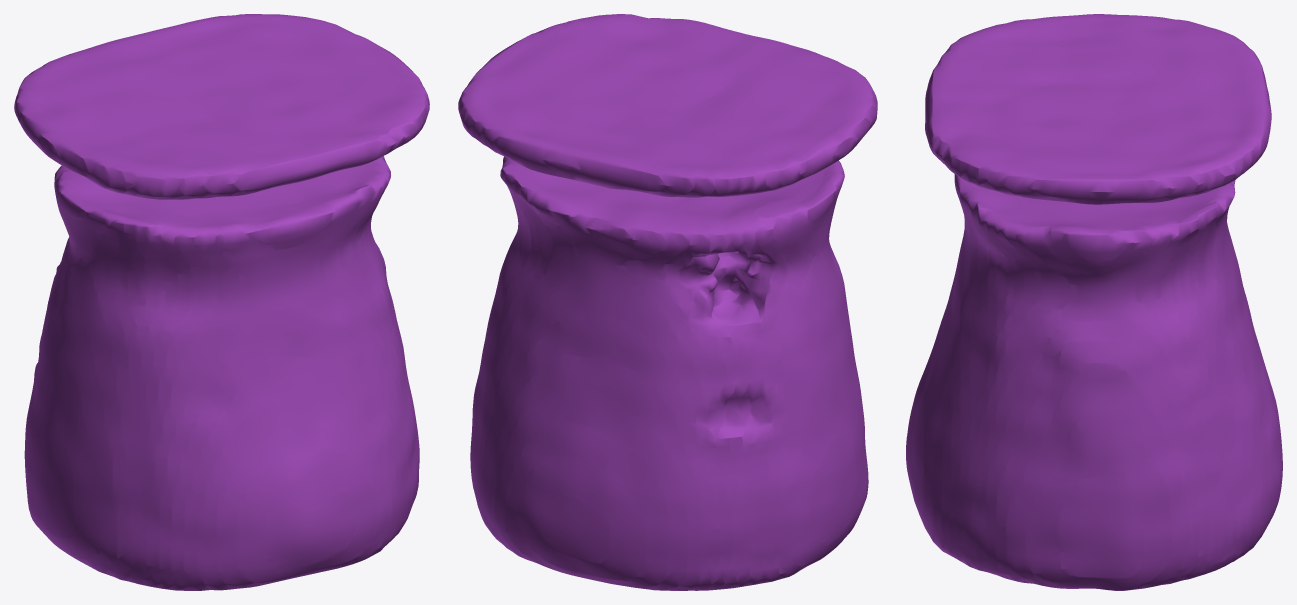
Rendered from table_11_4.obj.
3 views of the same model, side by side, from view 1: azimuth 30°, elevation 25°; view 2: azimuth 150°, elevation 25°; view 3: azimuth 270°, elevation 25° (orthographic).
Size of the model in its own units: 0.6903 by 0.798 by 0.6453.
